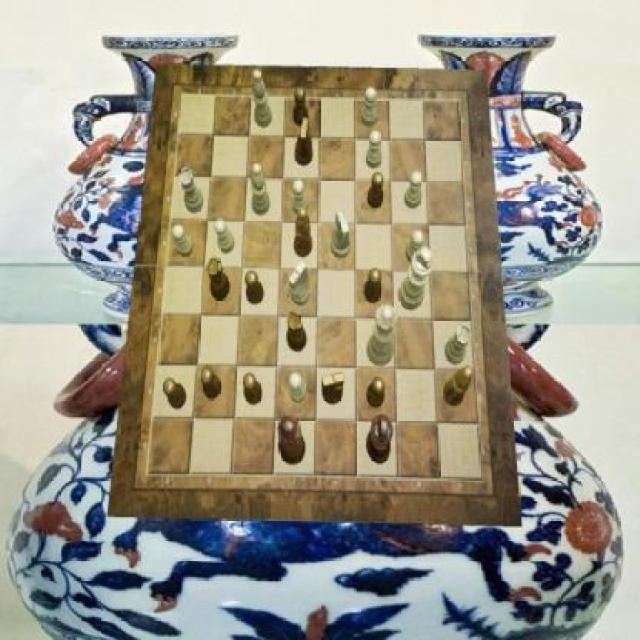bishop: (443, 365, 473, 406), (294, 208, 313, 258)
black-bishop: (366, 416, 393, 464)
black-king: (296, 119, 314, 166), (323, 370, 346, 404)
black-knight: (163, 378, 187, 409), (244, 269, 264, 304), (202, 368, 222, 402), (292, 88, 308, 128), (243, 374, 262, 406), (368, 171, 384, 208), (365, 268, 382, 302), (368, 377, 385, 408)
black-pawn: (279, 414, 306, 464)
black-queen: (206, 257, 230, 301), (288, 311, 308, 352)
black-rook: (252, 69, 272, 128), (251, 165, 270, 217)
white-bishop: (398, 246, 434, 310)
white-king: (288, 260, 310, 305), (331, 212, 351, 260)
white-knight: (172, 224, 195, 258), (216, 219, 236, 253), (362, 88, 378, 128), (405, 171, 422, 208), (406, 230, 424, 264), (366, 131, 382, 168), (292, 180, 308, 216), (289, 372, 307, 403)
white-pawn: (368, 305, 398, 367)
white-queen: (180, 168, 205, 213), (444, 324, 472, 364)
